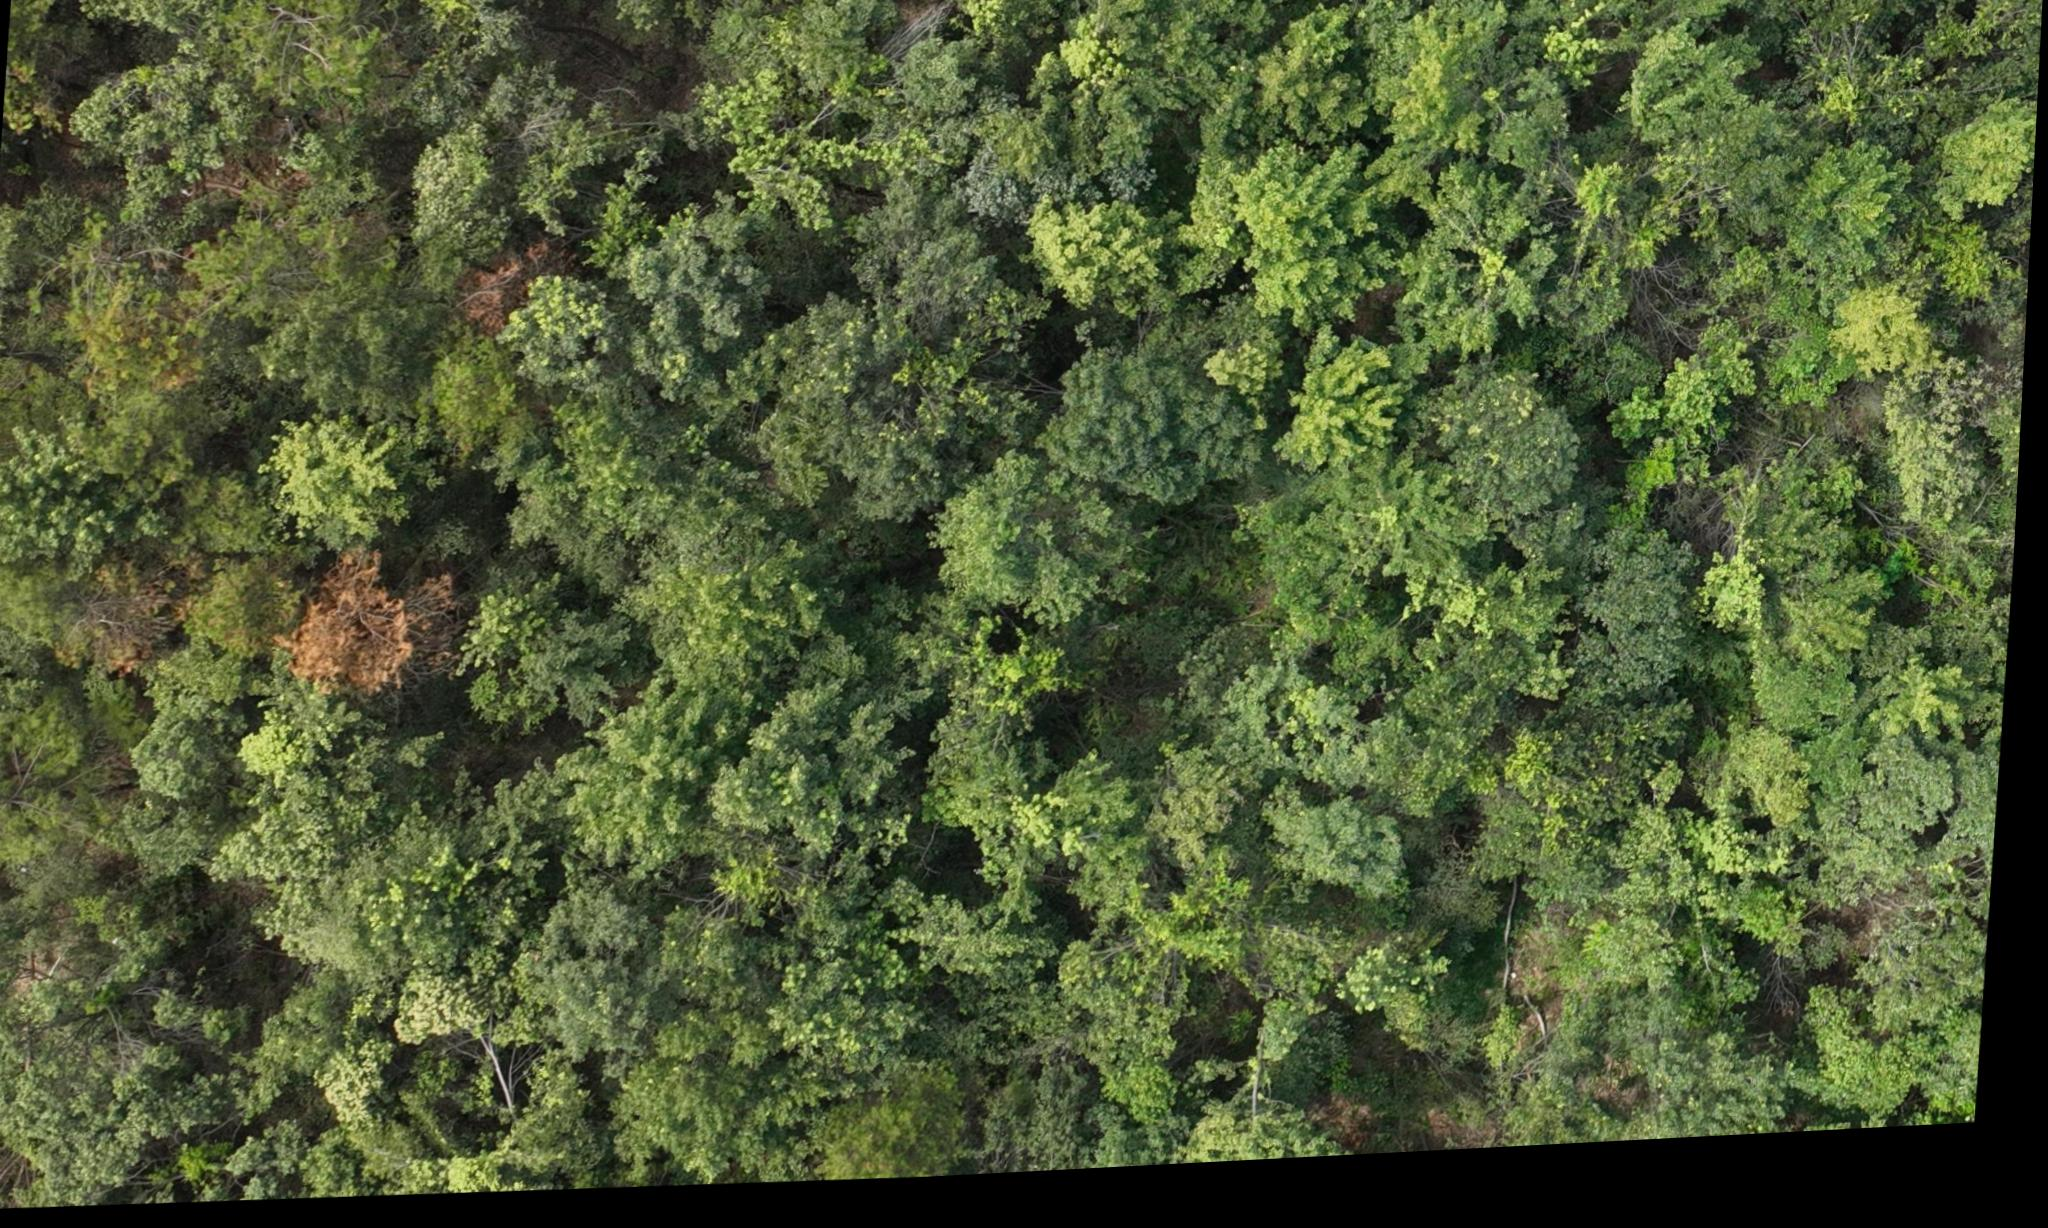heavy: (284, 542, 450, 713), (462, 247, 557, 335)
light: (63, 270, 216, 412)
